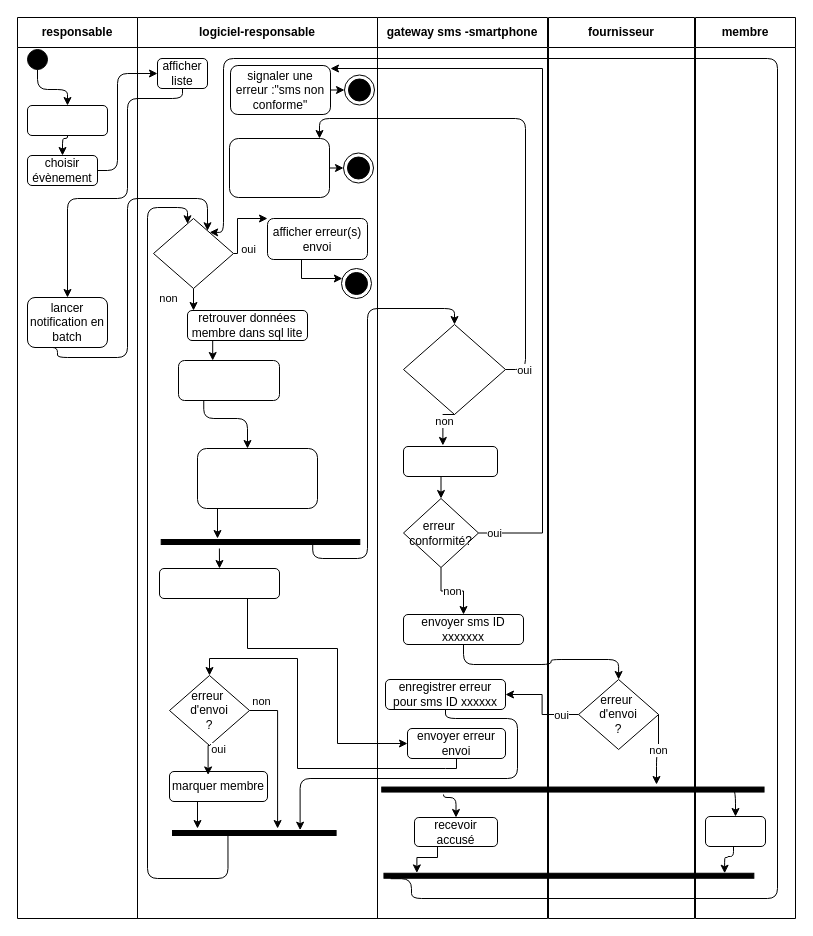
Image size: 813x936. Some labels were removed from this diagram. Each missing label, with the centre of its shape:
demande d'envoi envoi sms ID xxxxxxx login xx-yy-zzz password -wwwwww: point 257,478
demande erreur envoi: point 219,583
erreur login/ password?: point 454,369
liste de membre vide ?: point 193,253
recevoir sms: point 735,831
responsable se connecte: point 67,120
retrouver heure et date du rendez-vous dans sql lite: point 229,380
signaler une erreur :"login/password éronné(s)": point 279,168
vérifier conformité sms: point 450,461
